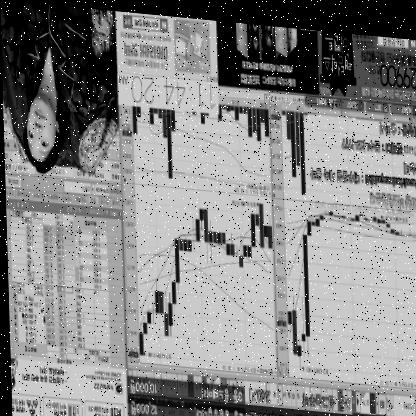streamer: (0, 0, 120, 180)
